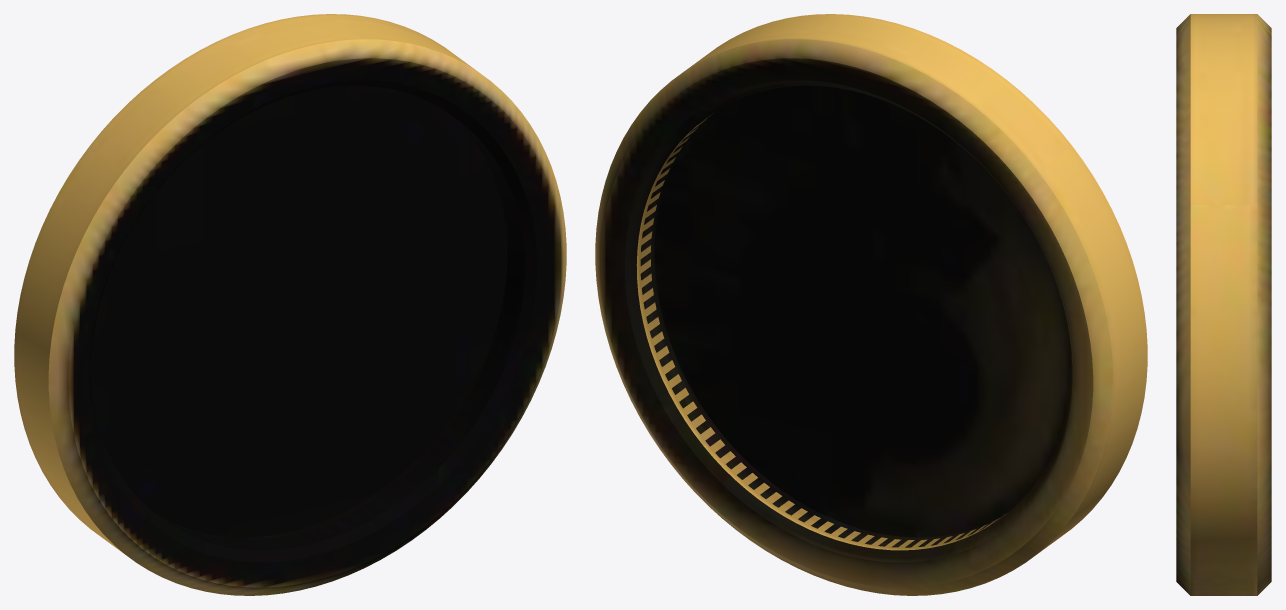
File: coin.glb
The picture shows the model from 3 angles, left to right: view 1: azimuth 30°, elevation 25°; view 2: azimuth 150°, elevation 25°; view 3: azimuth 270°, elevation 25°; orthographic projection. The views are drawn at different scales.
Parts seen in each view (by area): view 1: coin; view 2: coin; view 3: coin.
Part boxes in pixels (x1,y1,x2,y2): coin: [14, 14, 566, 595]; coin: [595, 14, 1147, 595]; coin: [1176, 14, 1271, 595].
Size of the model in its own units: 1 by 1 by 0.1641.
Materials: 1 (1 with a texture image).
